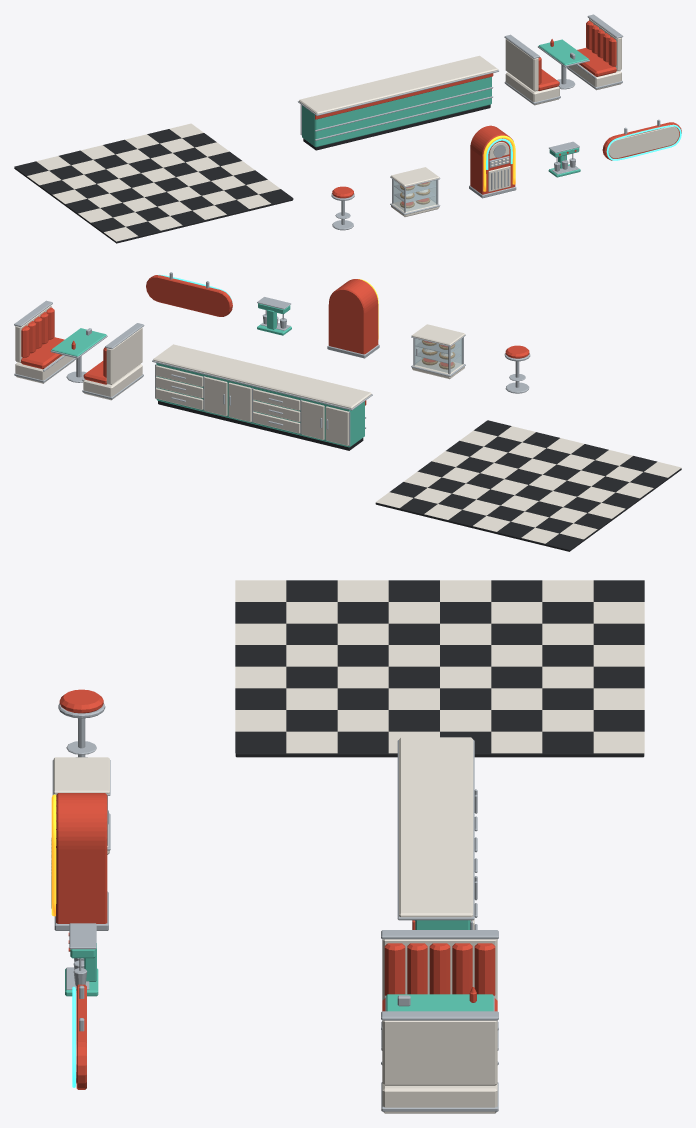
Rendered from retro-diner-kit.glb.
The picture shows the model from 3 angles, top to bottom: view 1: azimuth 30°, elevation 25°; view 2: azimuth 150°, elevation 25°; view 3: azimuth 270°, elevation 25°; orthographic projection. The views are drawn at different scales.
Visible parts, largest first — view 1: Floor_Checkered, Counter_Long, Booth_Red, Jukebox, PieCase, Sign_Blank, MilkshakeMachine, Jukebox_Door; view 2: Floor_Checkered, Counter_Long, Booth_Red, Jukebox, Sign_Blank, PieCase, PieCase_Door, Counter_Door_3, Counter_Door_4, Counter_Door_1, Counter_Door_2, MilkshakeMachine (+6 smaller); view 3: Floor_Checkered, Booth_Red, Counter_Long, Jukebox, PieCase, MilkshakeMachine, Sign_Blank, Stool_Seat.
Part boxes in pixels (box(x1,y1,x2,y2)): Floor_Checkered: box(14, 123, 293, 243); Counter_Long: box(298, 55, 498, 150); Booth_Red: box(504, 14, 623, 105); Jukebox: box(469, 125, 516, 198); PieCase: box(390, 167, 440, 216); Sign_Blank: box(602, 119, 681, 160); MilkshakeMachine: box(548, 141, 580, 177); Jukebox_Door: box(488, 166, 510, 191); Floor_Checkered: box(375, 420, 681, 551); Counter_Long: box(152, 344, 372, 450); Booth_Red: box(14, 300, 144, 400); Jukebox: box(327, 279, 379, 358); Sign_Blank: box(146, 272, 232, 316); PieCase: box(411, 324, 465, 379); PieCase_Door: box(415, 338, 448, 372); Counter_Door_3: box(228, 382, 251, 422); Counter_Door_4: box(204, 376, 227, 416); Counter_Door_1: box(325, 406, 348, 445); Counter_Door_2: box(301, 400, 324, 439); MilkshakeMachine: box(257, 297, 291, 335); Floor_Checkered: box(235, 580, 644, 757); Booth_Red: box(381, 930, 498, 1113); Counter_Long: box(397, 737, 474, 929); Jukebox: box(51, 793, 108, 930); PieCase: box(52, 757, 110, 854); MilkshakeMachine: box(65, 923, 98, 996); Sign_Blank: box(72, 984, 86, 1089); Stool_Seat: box(58, 689, 105, 718).
Size of the model in its own units: 49.06 by 5.09 by 23.19.
